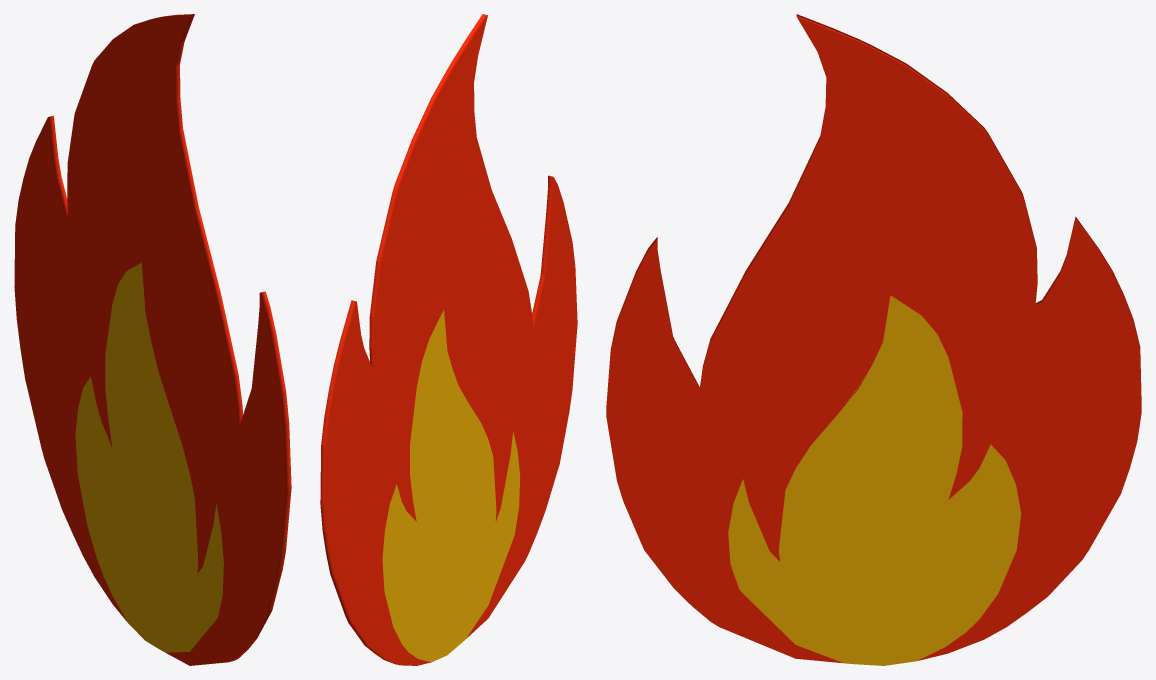
Rendered from FireElementalOrb (1).fbx.
The picture shows the model from 3 angles, left to right: view 1: azimuth 30°, elevation 25°; view 2: azimuth 150°, elevation 25°; view 3: azimuth 270°, elevation 25°; orthographic projection. The views are drawn at different scales.
Visible parts, largest first — view 1: Fire_Pickup; view 2: Fire_Pickup; view 3: Fire_Pickup.
Part boxes in pixels (x1,y1,x2,y2): Fire_Pickup: [14, 14, 291, 665]; Fire_Pickup: [320, 14, 577, 665]; Fire_Pickup: [606, 14, 1141, 665].
Bounding box in the file's own units: 0.6297 × 68.38 × 51.13.
